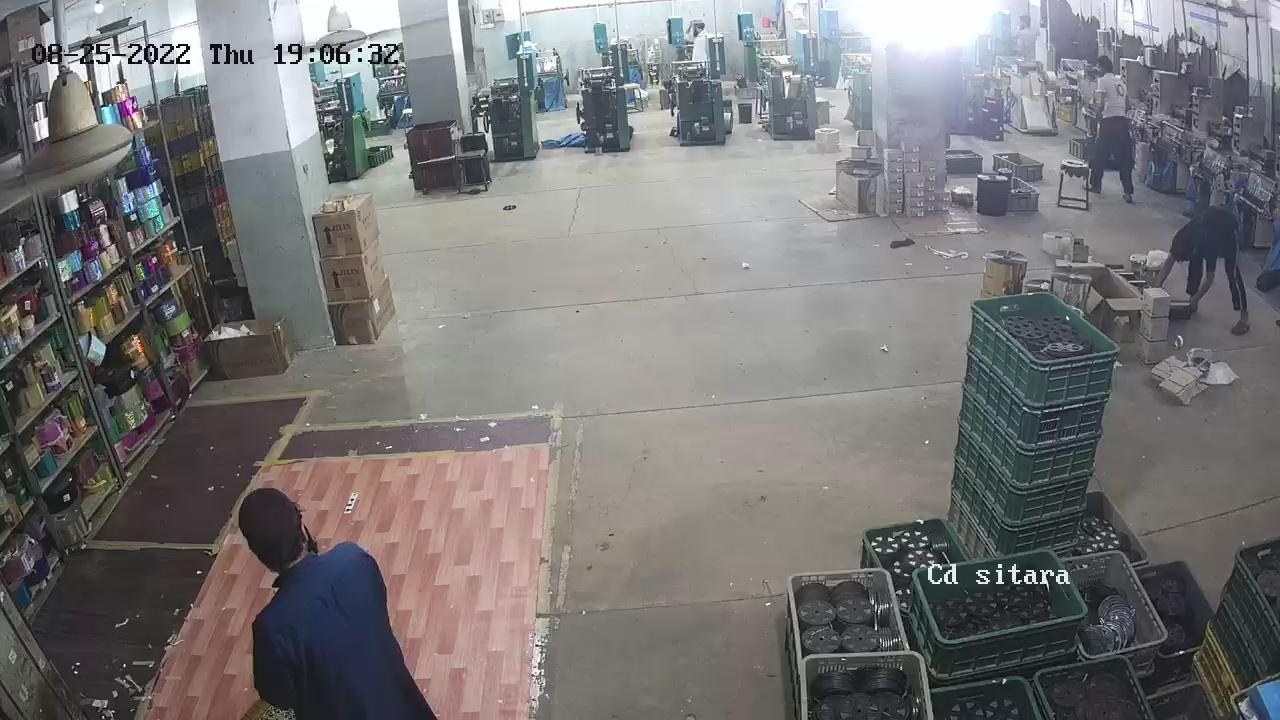person: (232, 488, 438, 720), (1169, 204, 1256, 336), (1085, 64, 1139, 203), (689, 18, 714, 72)
